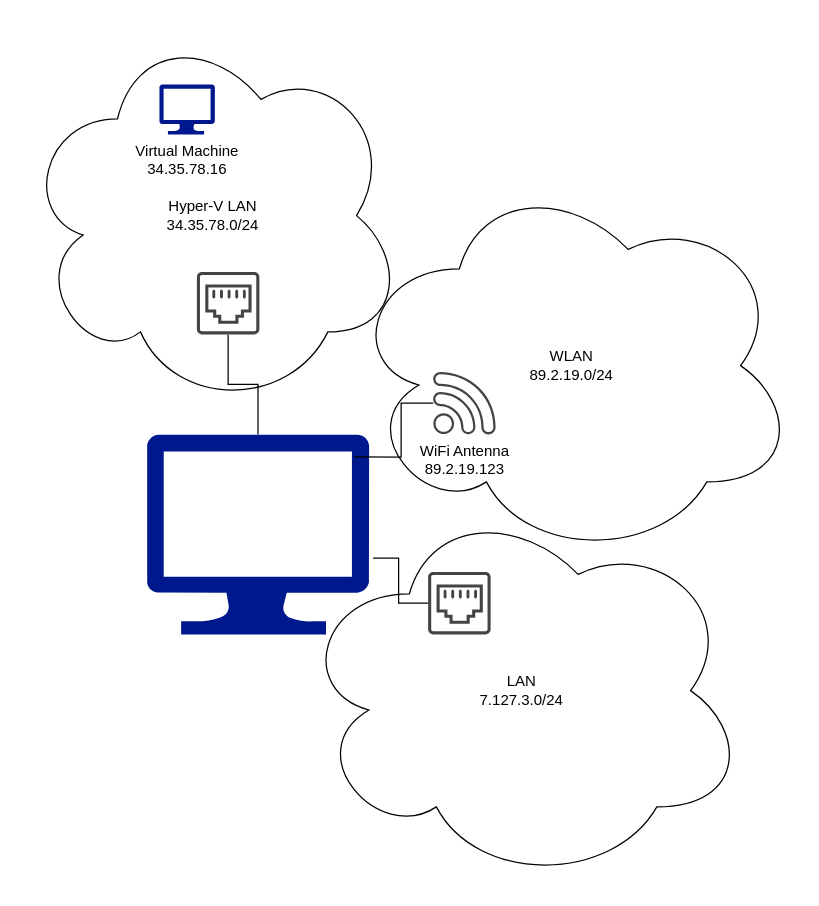
This 819x906 diagram has some shape labels left out. The centre of each missing label's shape, as x and y in pixels:
Ethernet Cable 7.127.3.12: point 459,602
Virtual Ethernet Cable 34.35.78.12: point 227,302
